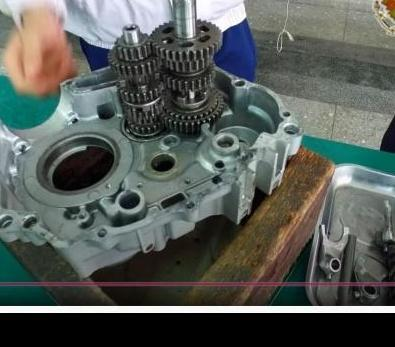hole: (23, 215, 38, 230), (185, 200, 195, 212), (77, 212, 88, 221), (103, 182, 113, 190), (136, 181, 145, 189), (183, 178, 192, 185)
